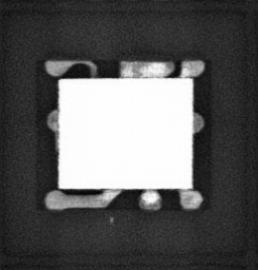DIE_INK: (108, 215, 114, 224)
